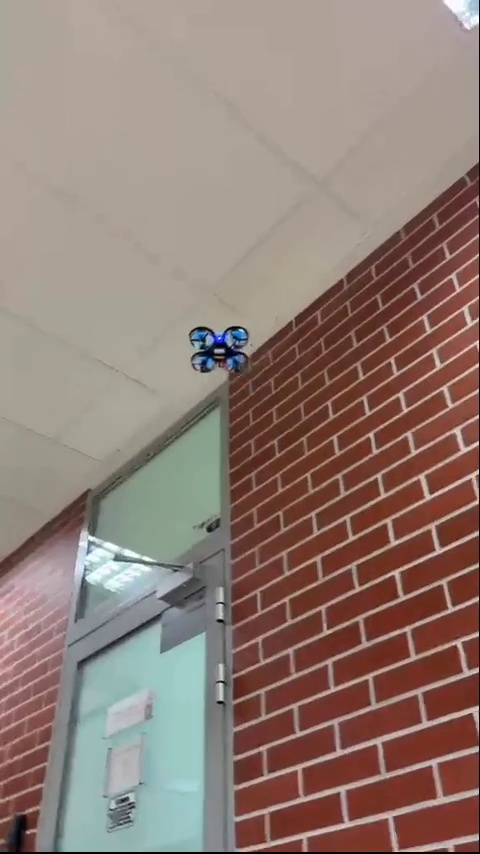drone: (186, 327, 252, 378)
